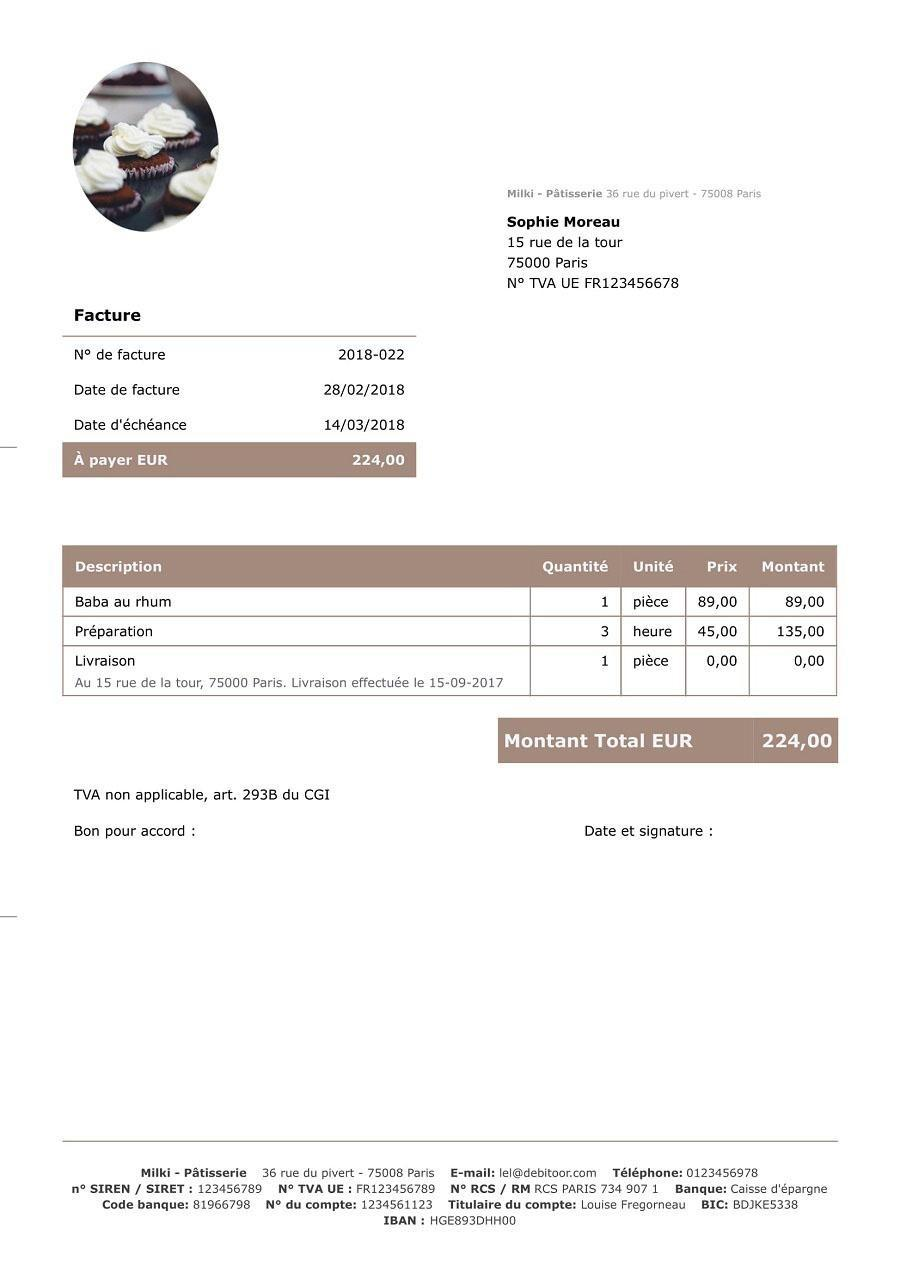ROI: (64, 549, 851, 693), (60, 306, 417, 476), (65, 1183, 835, 1235), (499, 716, 840, 765), (502, 211, 692, 298), (139, 1164, 762, 1180)
